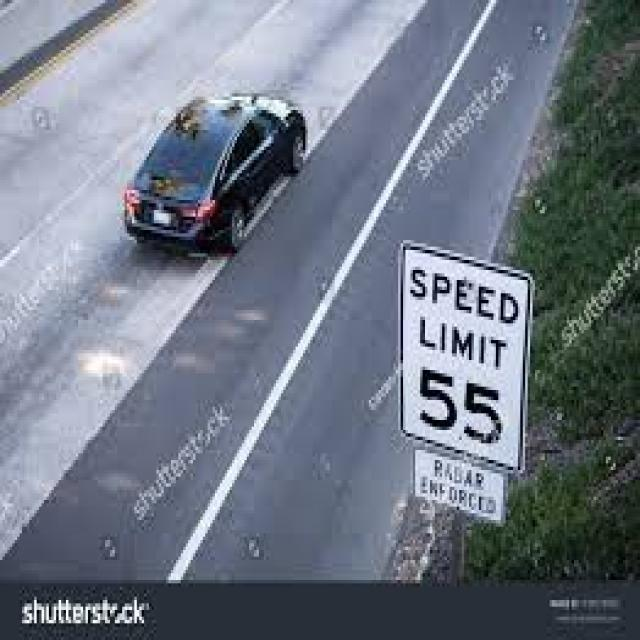speedLimit55: (395, 239, 529, 475)
